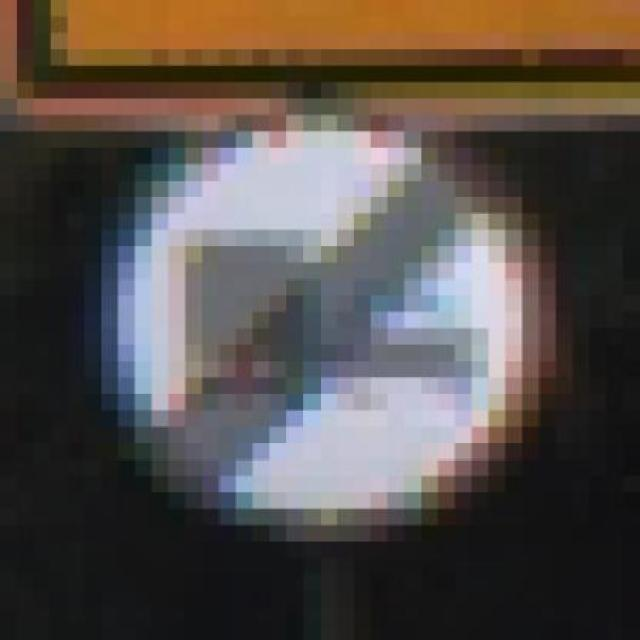Overtaking by trucks is prohibited: (50, 98, 573, 574)
